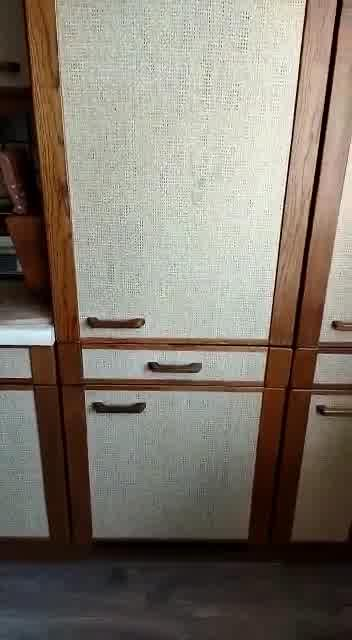cabinet_door: (50, 0, 314, 344), (64, 388, 278, 551), (304, 0, 350, 349), (280, 389, 352, 550), (60, 344, 292, 393), (0, 383, 63, 551)
handle: (84, 311, 147, 343), (86, 391, 149, 420), (146, 350, 203, 378)
